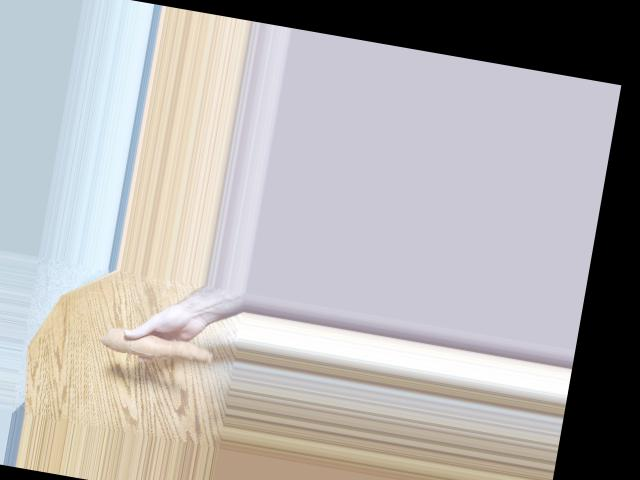sweet_potato: (104, 321, 215, 371)
